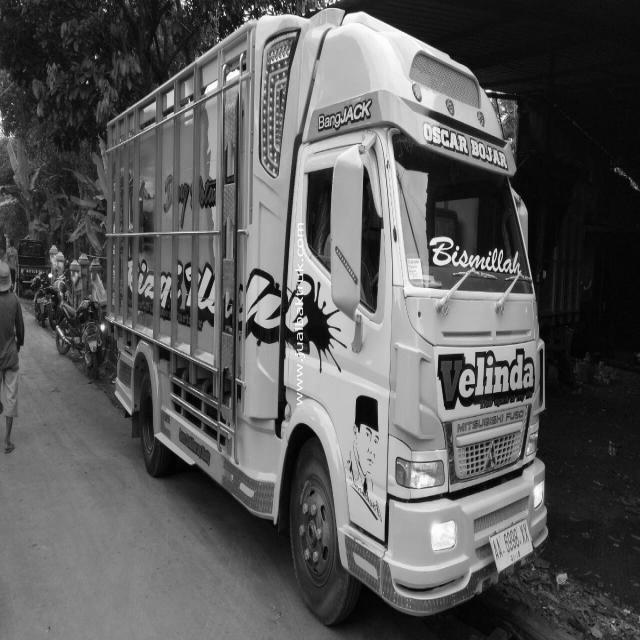truck: (221, 1, 581, 629)
